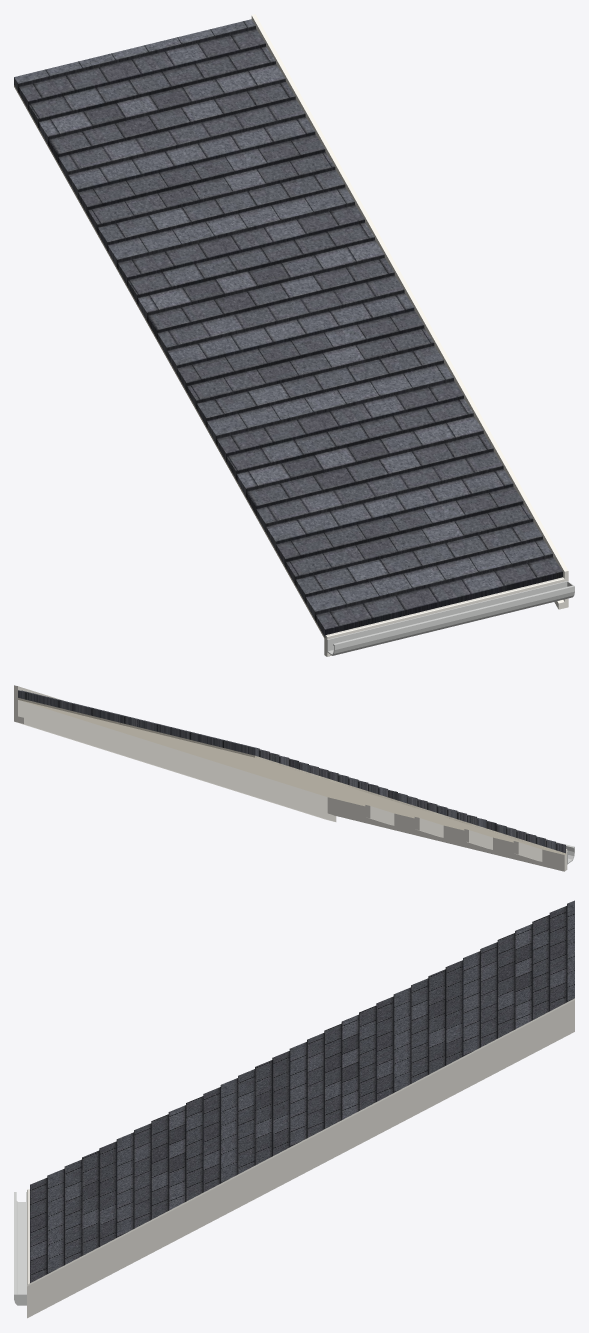
The model's file is roof_store_back_r.glb.
The picture shows the model from 3 angles, top to bottom: view 1: azimuth 30°, elevation 25°; view 2: azimuth 150°, elevation 25°; view 3: azimuth 270°, elevation 25°; orthographic projection. The views are drawn at different scales.
Visible parts, largest first — view 1: roof_store_back_r_shingles, roof_store_back_r_trim, roof_store_back_r_gutter, roof_store_back_r_plaster; view 2: roof_store_back_r_trim, roof_store_back_r_plaster, roof_store_back_r_shingles; view 3: roof_store_back_r_shingles, roof_store_back_r_trim, roof_store_back_r_gutter.
Boxes of the visible parts, bbox=[...] form: roof_store_back_r_shingles: bbox=[14, 19, 562, 637]; roof_store_back_r_trim: bbox=[251, 14, 568, 656]; roof_store_back_r_gutter: bbox=[327, 581, 574, 655]; roof_store_back_r_plaster: bbox=[14, 85, 325, 639]; roof_store_back_r_trim: bbox=[14, 685, 567, 871]; roof_store_back_r_plaster: bbox=[18, 698, 565, 855]; roof_store_back_r_shingles: bbox=[18, 690, 565, 853]; roof_store_back_r_shingles: bbox=[30, 900, 574, 1282]; roof_store_back_r_trim: bbox=[27, 998, 574, 1318]; roof_store_back_r_gutter: bbox=[14, 1192, 26, 1305].
Size of the model in its own units: 2.44 by 3.52 by 5.61.
Materials: 4 (2 with a texture image).
